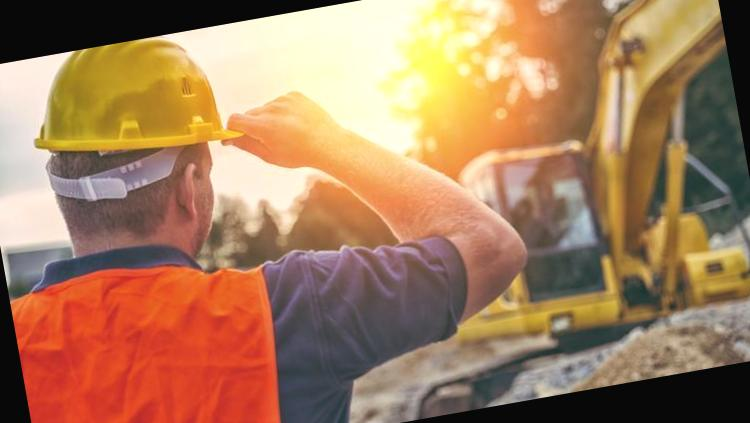helmet: (8, 22, 250, 186)
person: (0, 14, 350, 423)
